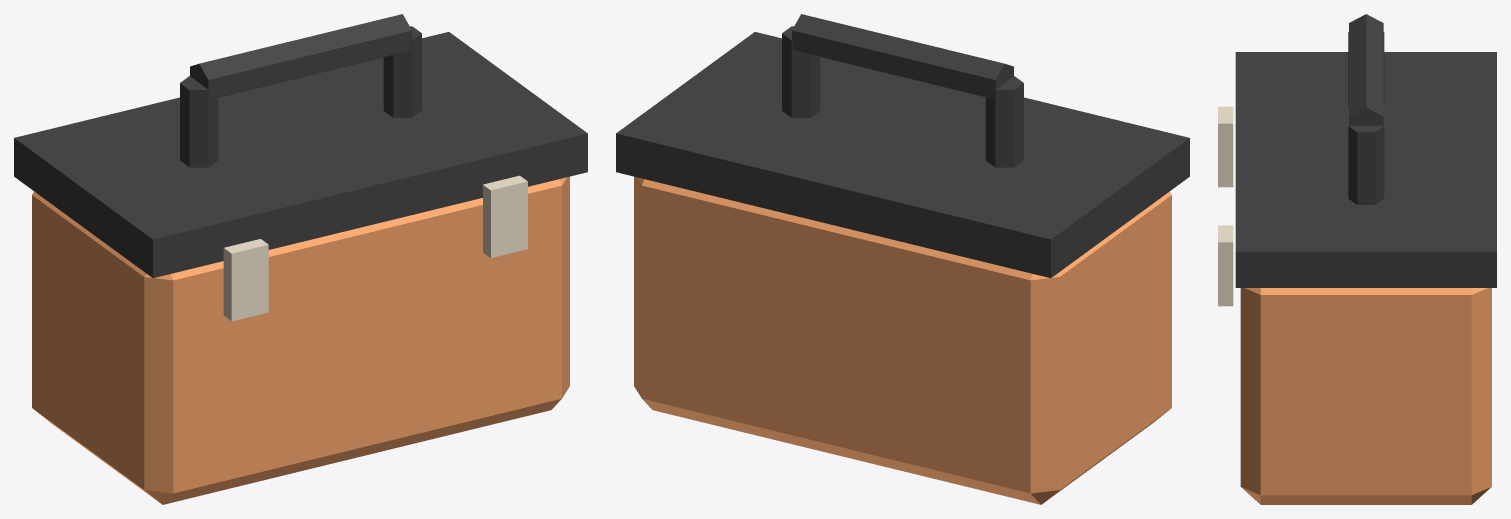
3 renders of one model, left to right at view 1: azimuth 30°, elevation 25°; view 2: azimuth 150°, elevation 25°; view 3: azimuth 270°, elevation 25°, orthographic. The views are drawn at different scales.
Parts seen in each view (by area): view 1: Box, Lid, Handle, Latch, Latch.001, Handle riser, Handle riser.001; view 2: Box, Lid, Handle, Handle riser, Handle riser.001; view 3: Lid, Box, Handle, Handle riser.001, Latch.001, Latch.
Part boxes in pixels (box(x1,y1,x2,y2)): Box: box(32, 176, 569, 504); Lid: box(14, 32, 587, 278); Handle: box(190, 14, 411, 98); Latch: box(223, 239, 268, 321); Latch.001: box(483, 175, 527, 257); Handle riser: box(180, 76, 218, 167); Handle riser.001: box(383, 26, 421, 117); Box: box(634, 176, 1171, 504); Lid: box(616, 32, 1189, 278); Handle: box(792, 14, 1013, 98); Handle riser: box(985, 76, 1023, 167); Handle riser.001: box(782, 26, 820, 117); Lid: box(1235, 52, 1496, 287); Box: box(1240, 288, 1491, 504); Handle: box(1349, 14, 1383, 125); Handle riser.001: box(1348, 125, 1384, 204); Latch.001: box(1218, 225, 1233, 306); Latch: box(1218, 106, 1233, 187).
Bounding box in the file's own units: 0.423 × 0.351 × 0.2497.
1 material, 1 textured.
